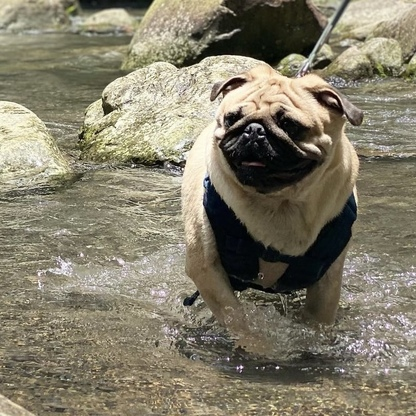Pug: (174, 60, 371, 335)
